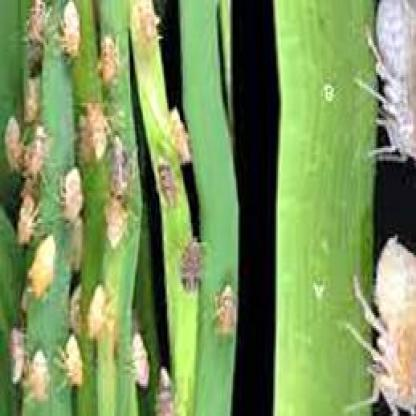brown-planthopper: (369, 237, 416, 416), (369, 0, 415, 154), (30, 232, 61, 304), (81, 286, 109, 337), (213, 284, 240, 336), (82, 100, 106, 158), (61, 0, 82, 58), (61, 166, 82, 223), (183, 237, 205, 291), (104, 198, 127, 247), (130, 334, 151, 387), (29, 350, 50, 402), (62, 332, 82, 386), (170, 115, 192, 162), (98, 38, 119, 81), (138, 9, 161, 48), (157, 164, 177, 206), (20, 194, 35, 245), (26, 142, 46, 179)
